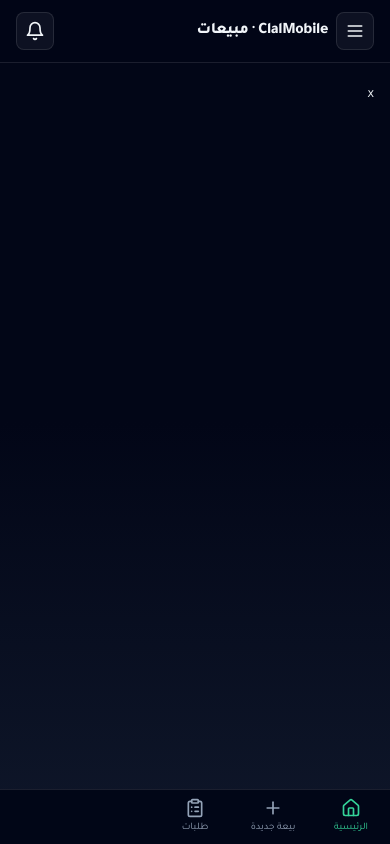
Test case: SalesPwaShell › mobile-drawer toggle opens the drawer (close button becomes visible)
Click the button named "فتح القائمة" at (355, 31), box [336,12,374,50]
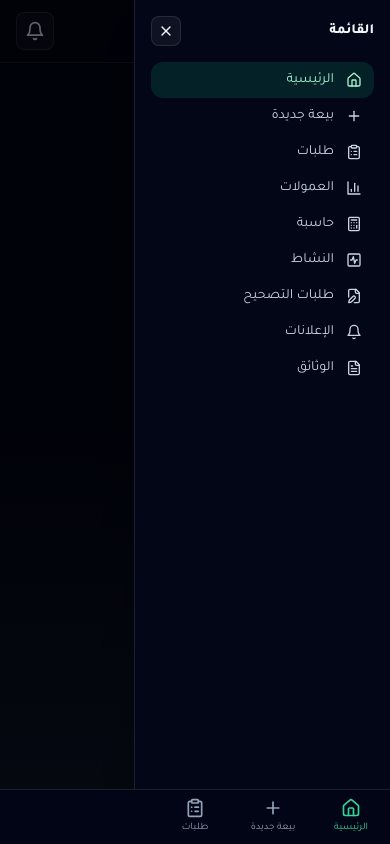
expect the button named "إغلاق القائمة" is shown: met
expect the button named "إغلاق" is shown: met, box [151,16,181,46]
